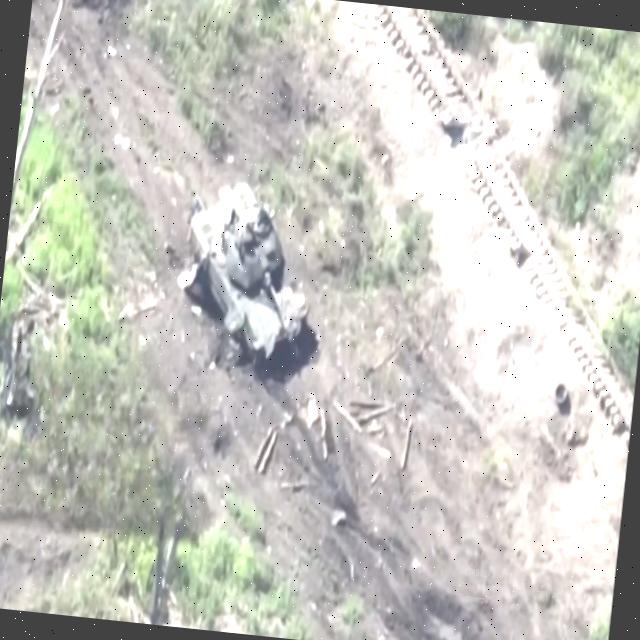AIFV: (177, 167, 323, 379)
